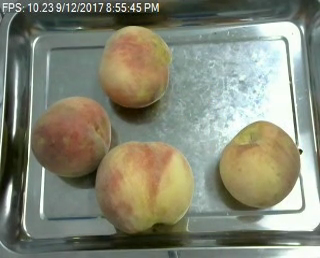Peach: (93, 140, 193, 235), (218, 119, 300, 208), (31, 95, 112, 178), (99, 25, 172, 108)
